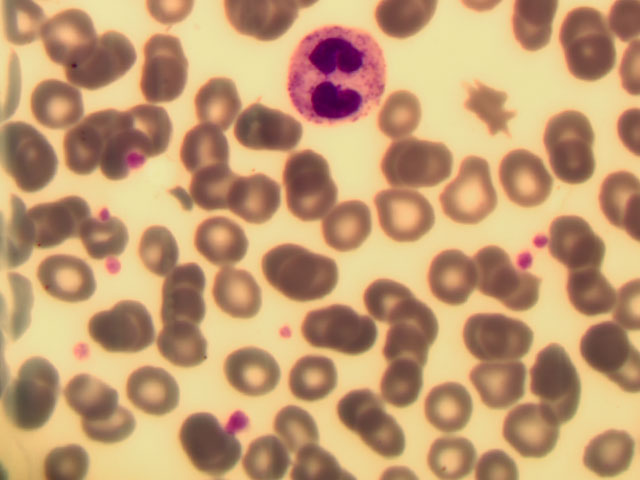Platelets: (515, 247, 540, 272), (224, 408, 249, 432), (106, 254, 123, 277), (70, 343, 93, 359), (527, 235, 549, 249), (130, 152, 144, 169), (97, 207, 111, 220), (279, 324, 291, 338)
RBC: (37, 7, 93, 65), (69, 34, 125, 92), (132, 16, 188, 74), (132, 50, 188, 108), (182, 67, 238, 125), (125, 90, 181, 148), (56, 116, 112, 174), (24, 80, 80, 138), (12, 124, 68, 182), (15, 194, 71, 252), (43, 179, 99, 237), (38, 248, 94, 306), (86, 299, 142, 357), (115, 293, 171, 351), (141, 315, 197, 373), (152, 277, 208, 335), (156, 246, 212, 304), (130, 220, 186, 278), (189, 210, 245, 268), (193, 164, 249, 222), (222, 161, 278, 219), (178, 125, 234, 183), (231, 98, 287, 156), (280, 131, 336, 189), (284, 174, 340, 232), (329, 192, 385, 250), (371, 185, 427, 243), (369, 134, 425, 192), (400, 128, 456, 186), (382, 85, 438, 143), (443, 158, 499, 216), (485, 148, 541, 206), (530, 139, 586, 197), (543, 104, 599, 162), (584, 173, 640, 231), (557, 214, 613, 272), (569, 272, 625, 330), (469, 304, 525, 362), (500, 265, 556, 323), (461, 245, 517, 303), (426, 250, 482, 308), (356, 264, 412, 322), (328, 300, 384, 358), (300, 297, 356, 355), (288, 255, 344, 313), (253, 237, 309, 295), (221, 341, 277, 399), (286, 348, 342, 406), (323, 373, 379, 431), (362, 398, 418, 456), (376, 351, 432, 409), (382, 324, 438, 382), (422, 381, 478, 439), (482, 355, 538, 413), (510, 411, 566, 469), (522, 341, 578, 399), (584, 422, 640, 480), (417, 422, 473, 480), (236, 422, 292, 480), (263, 398, 319, 456), (168, 404, 224, 462), (126, 365, 182, 423), (80, 402, 136, 460), (62, 368, 118, 426), (4, 380, 60, 438), (7, 350, 63, 408), (43, 422, 99, 480)
WBC: (288, 23, 383, 123)
